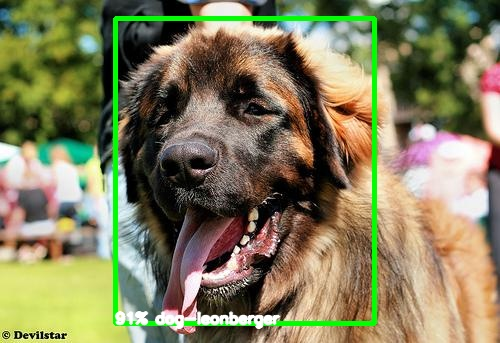dog-leonberger: (122, 24, 379, 334)
